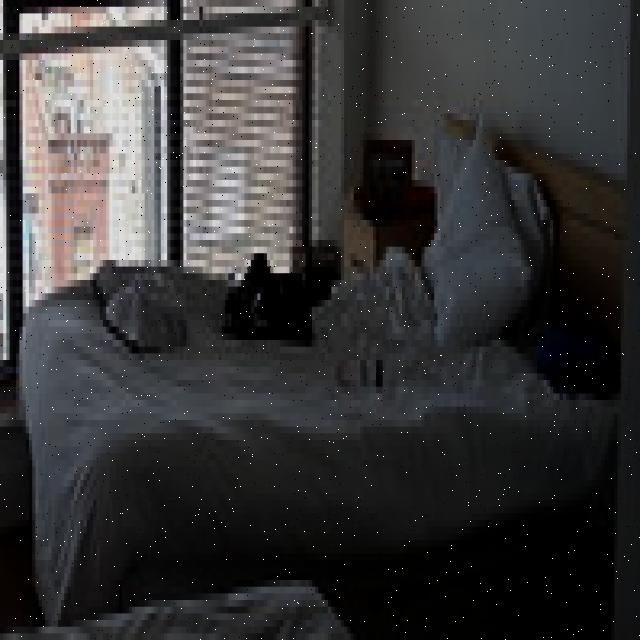bed: (28, 131, 622, 532)
